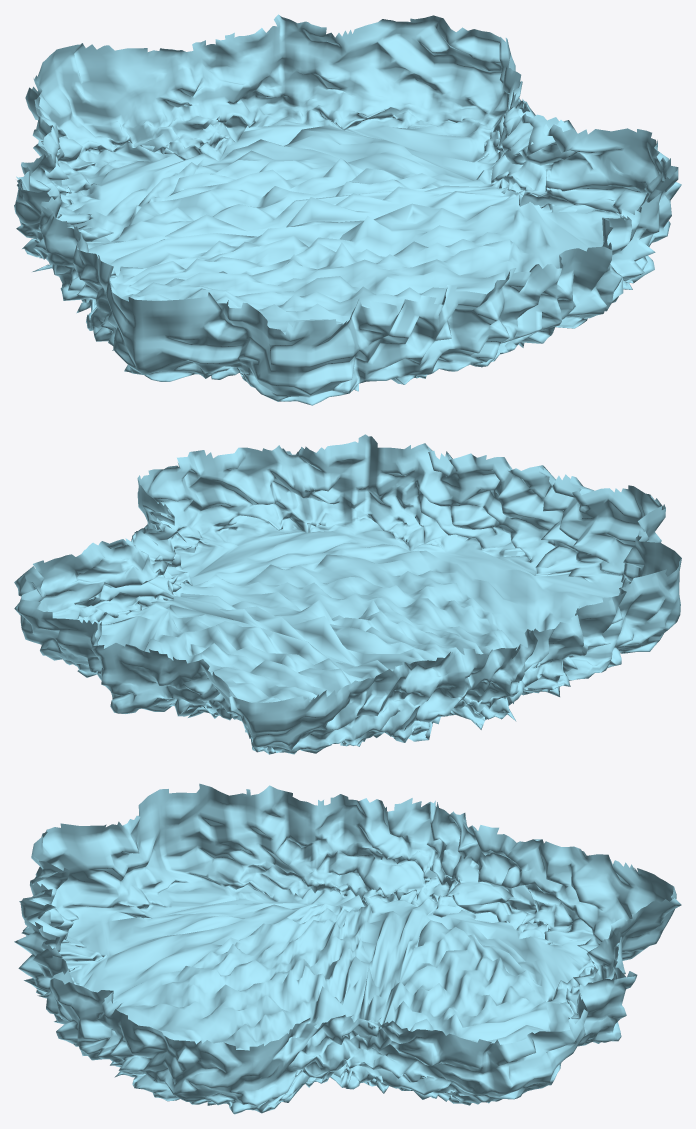
File: BlenderCaveBottom.fbx
3 views of the same model, one above another, from view 1: azimuth 30°, elevation 25°; view 2: azimuth 150°, elevation 25°; view 3: azimuth 270°, elevation 25° (orthographic). The views are drawn at different scales.
Visible parts, largest first — view 1: Plane; view 2: Plane; view 3: Plane.
Boxes of the visible parts, bbox=[...] form: Plane: bbox=[14, 14, 681, 405]; Plane: bbox=[14, 434, 681, 754]; Plane: bbox=[14, 783, 681, 1114].
Size of the model in its own units: 44124 by 8345 by 49217.
